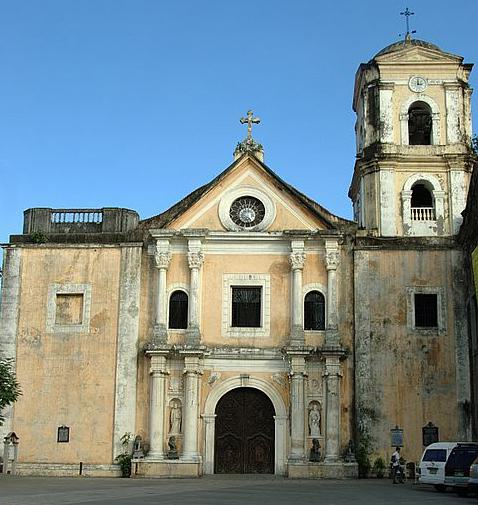Environmental Damage: (461, 132, 478, 169), (27, 229, 51, 250), (232, 139, 264, 153)
San Agustin Church: (137, 5, 476, 482)
